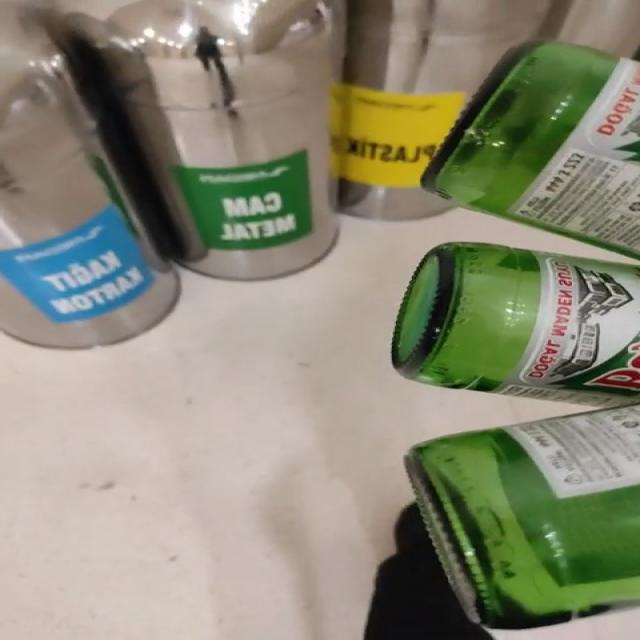glass: (392, 243, 640, 630), (423, 41, 640, 257)
